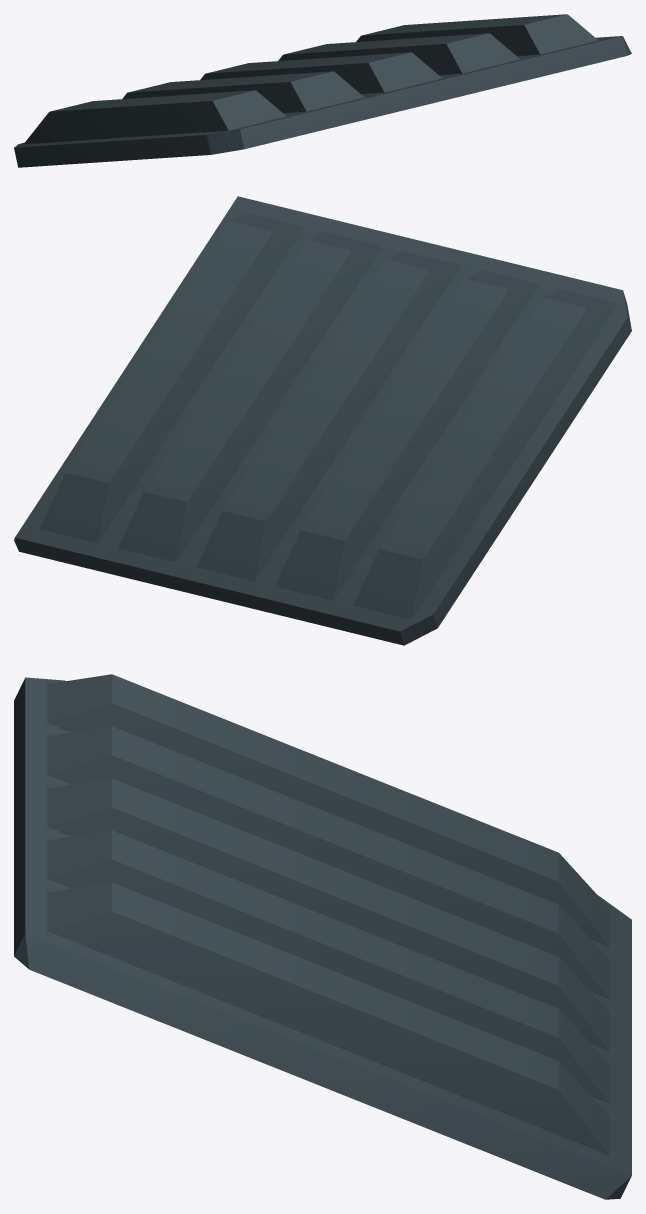
Rendered from Container_Cap3_01.fbx.
3 views of the same model, one above another, from view 1: azimuth 30°, elevation 25°; view 2: azimuth 150°, elevation 25°; view 3: azimuth 270°, elevation 25° (orthographic). The views are drawn at different scales.
Parts seen in each view (by area): view 1: Container_Cap3_01; view 2: Container_Cap3_01; view 3: Container_Cap3_01.
Part boxes in pixels (x1,y1,x2,y2): Container_Cap3_01: (14,14,631,167); Container_Cap3_01: (14,196,631,645); Container_Cap3_01: (14,674,631,1199).
Size of the model in its own units: 61.85 by 58.64 by 28.43.
